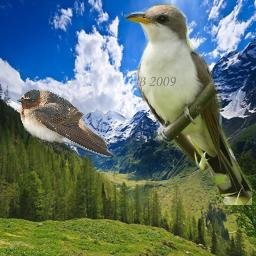Cuckoo: (124, 2, 252, 205)
Swallow: (16, 89, 116, 157)
